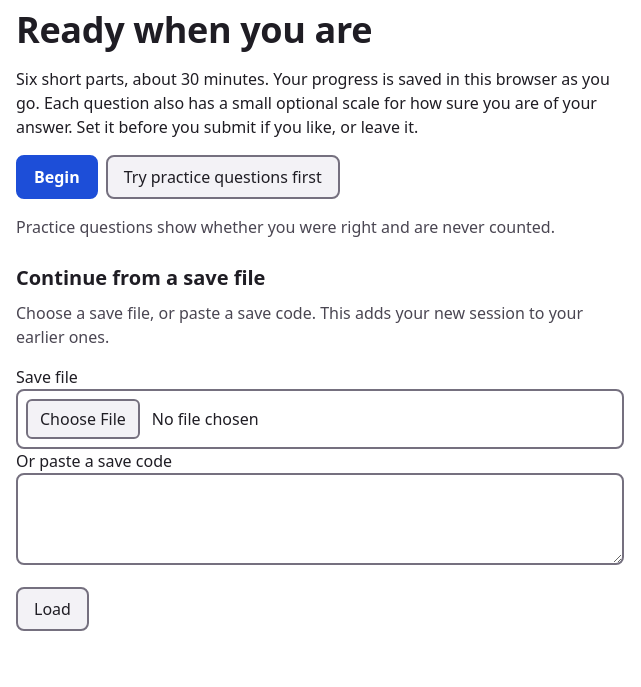
Test case: Ready: a chosen file is never silently left unread (UX-012a) › Load with nothing chosen asks for a file or a code, in one alert that both fields point at
Click the button "Load" at (52, 609), box [16,587,89,631]
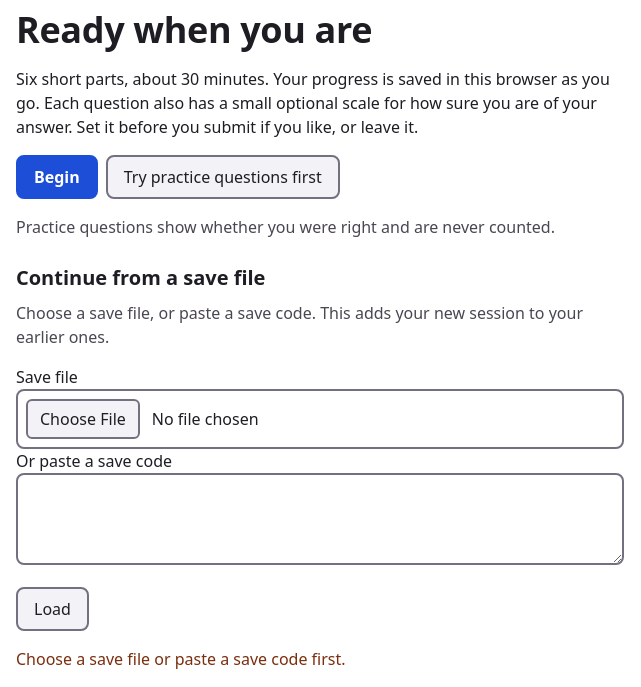
expect the message "Choose a save file or paste a save code first." is shown: met, box [16,648,346,670]
expect the number of messages is 1: met, box [16,648,346,670]
